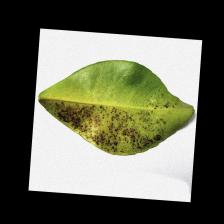canker: (68, 109, 138, 144)
